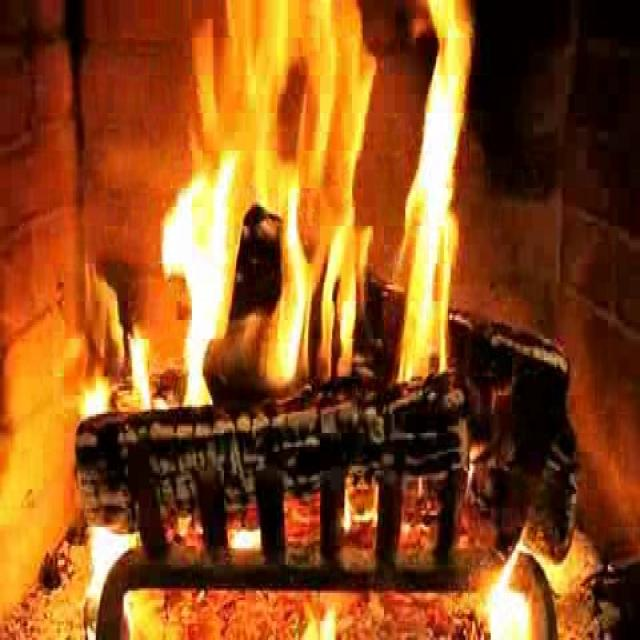fire: (145, 1, 468, 444)
